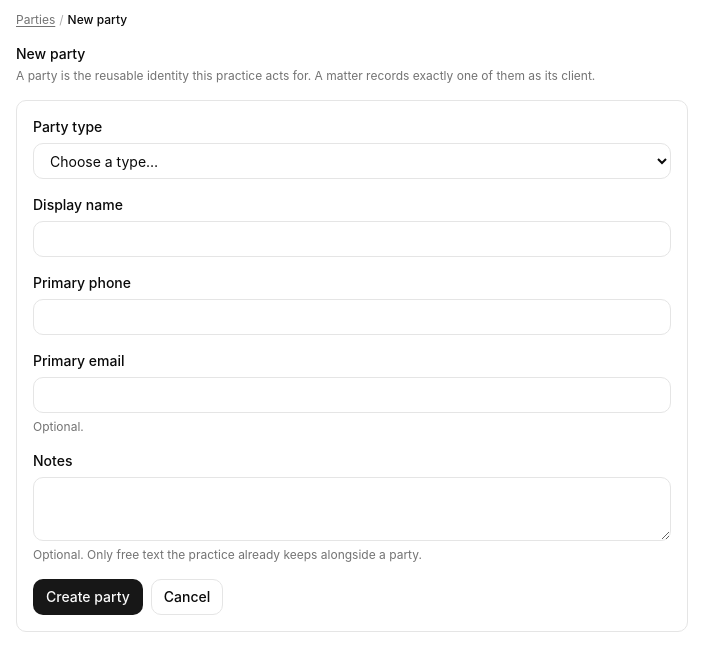
PartyCreatePage › disables the submit button while the request is pending
Step 1. Select "Organization" in the dropdown labelled "Party type" → (352, 161), box [33, 143, 671, 179]
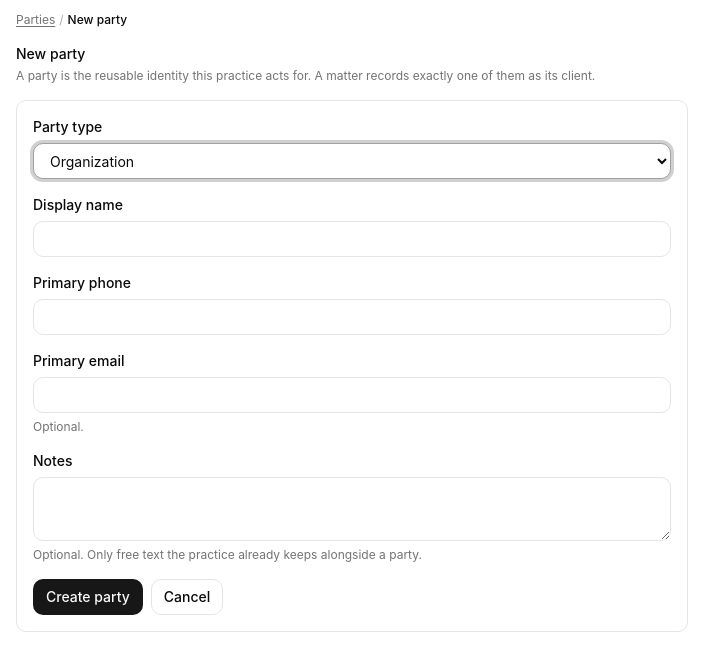
Step 2. Type "Northwind Traders" into the field labelled "Display name" → (352, 239), box [33, 221, 671, 257]
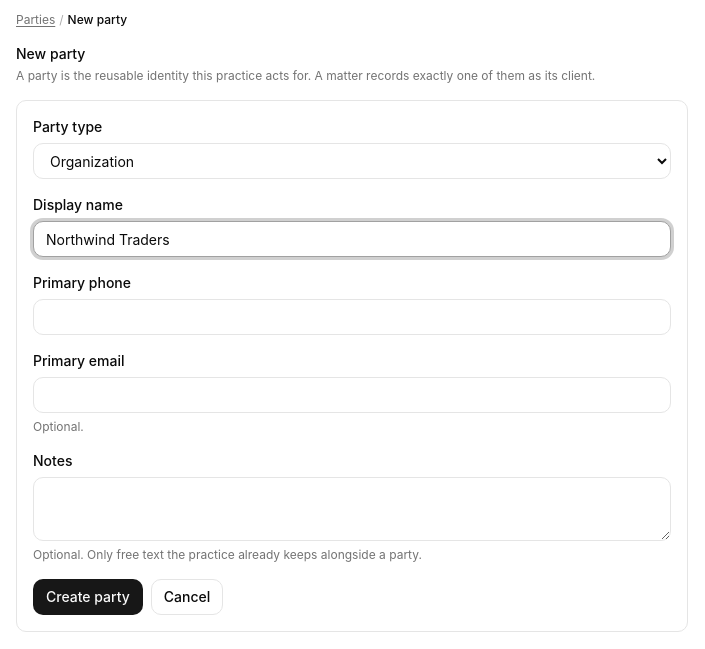
Step 3. Type "+91 9876543210" into the field labelled "Primary phone" → (352, 317), box [33, 299, 671, 335]
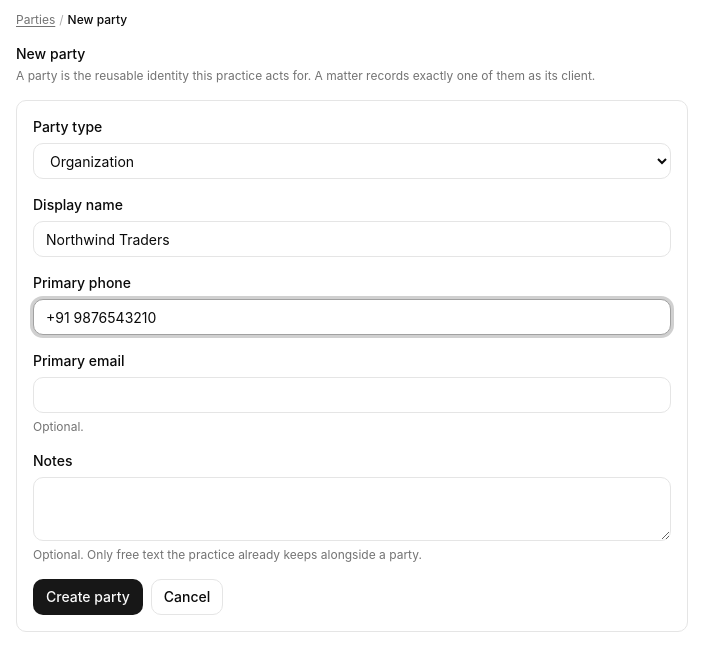
Step 4. Click the button "Create party" → (88, 597), box [33, 579, 143, 615]
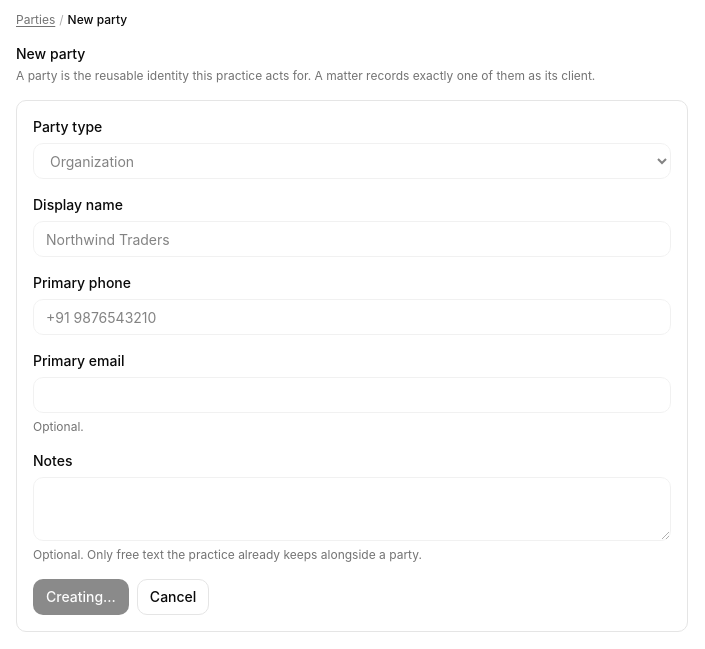
Result: the button "Creating…" is disabled at [33, 579, 129, 615]
